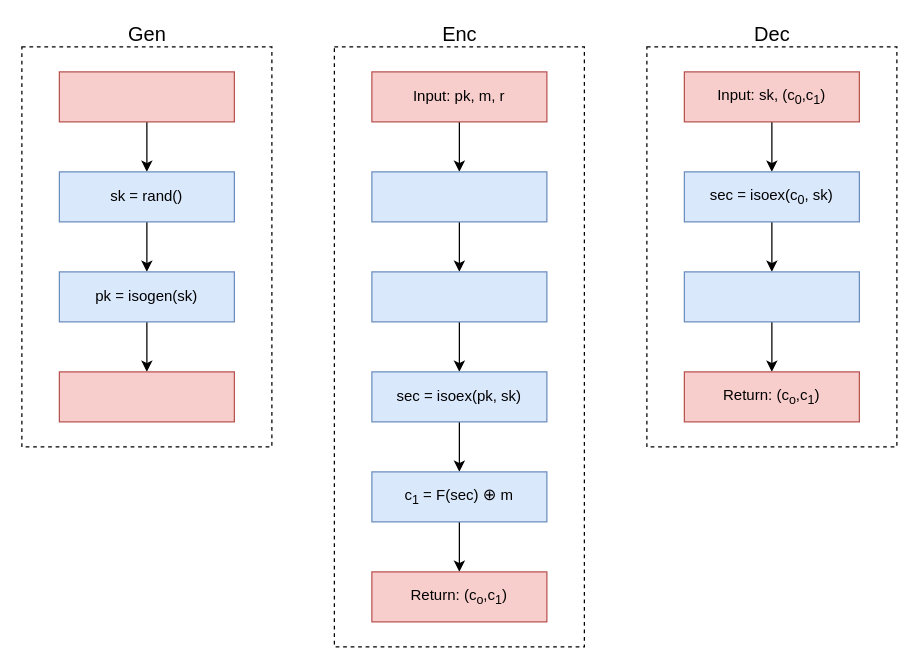
Some shapes in this 919 by 669 pixel diagram are drawn without their labels. Each missing label, with the centre of its shape:
"c 0 = isogen(sk)" goes at (459,296).
"Input:()" goes at (146,96).
"m = F(sec) ⊕ c 1" goes at (771,296).
"Return: (sk, pk)" goes at (146,396).
"sk = r" goes at (459,196).
